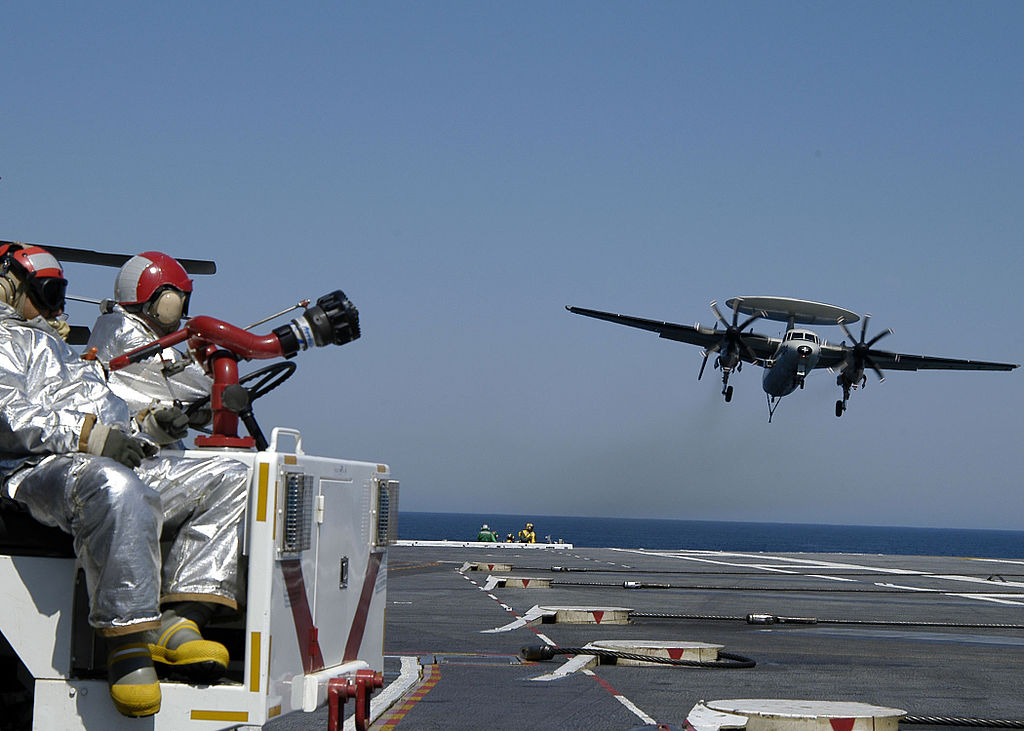E2: (564, 295, 1020, 424)
